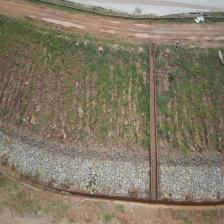rock_toe: (0, 131, 150, 198), (161, 162, 224, 199)
slope_drain: (147, 40, 158, 198)
